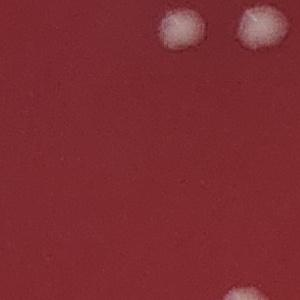colony: (237, 2, 293, 55), (152, 5, 213, 53), (218, 279, 273, 300)
